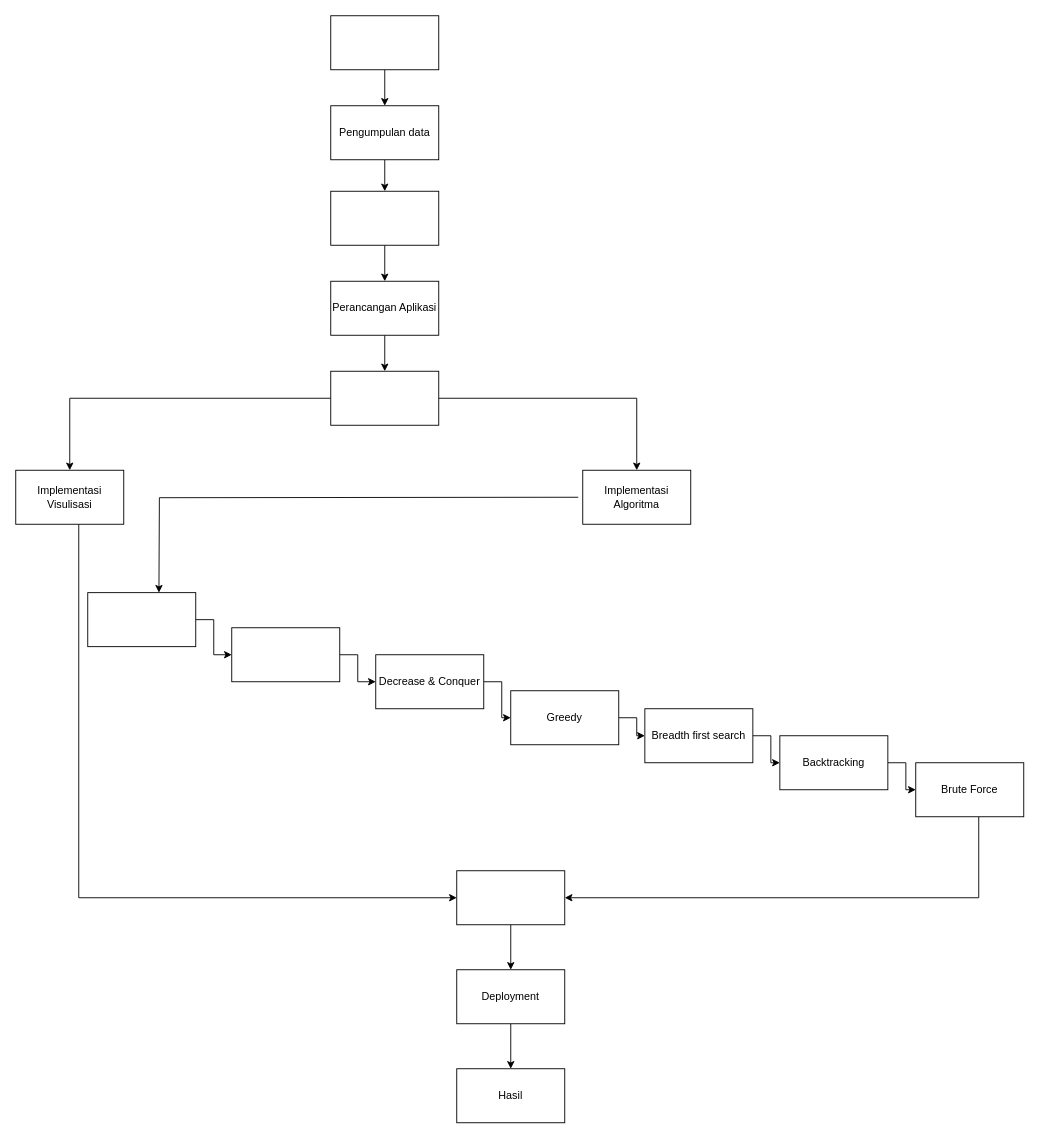
Image size: 1040x1139. Some labels were removed from this diagram. The shapes that lost their labels are listed below. From the top down, each one's centre as x and y in pixels, then its label:
At pixel 384 42: "Mulai".
At pixel 384 217: "Analisis".
At pixel 384 397: "Implementasi".
At pixel 141 619: "Dynamic Programming".
At pixel 285 654: "Divide & Conquer".
At pixel 510 897: "Testing".
